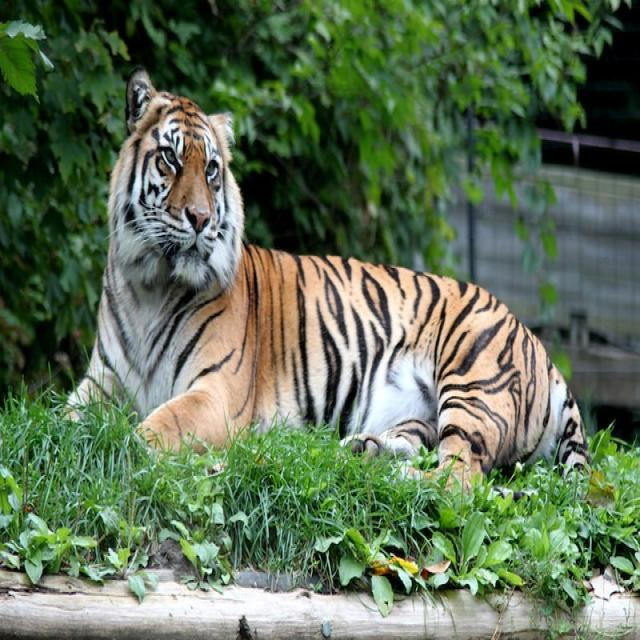Tiger: (63, 60, 590, 489)
